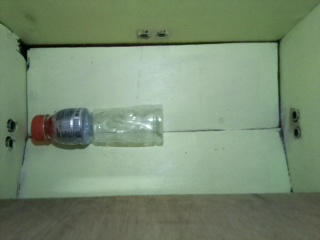bottle: (29, 102, 166, 152)
